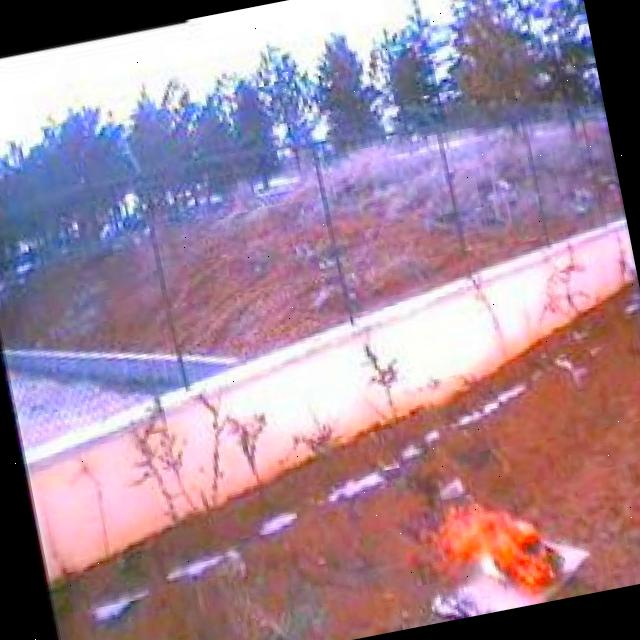fire: (398, 478, 576, 624)
